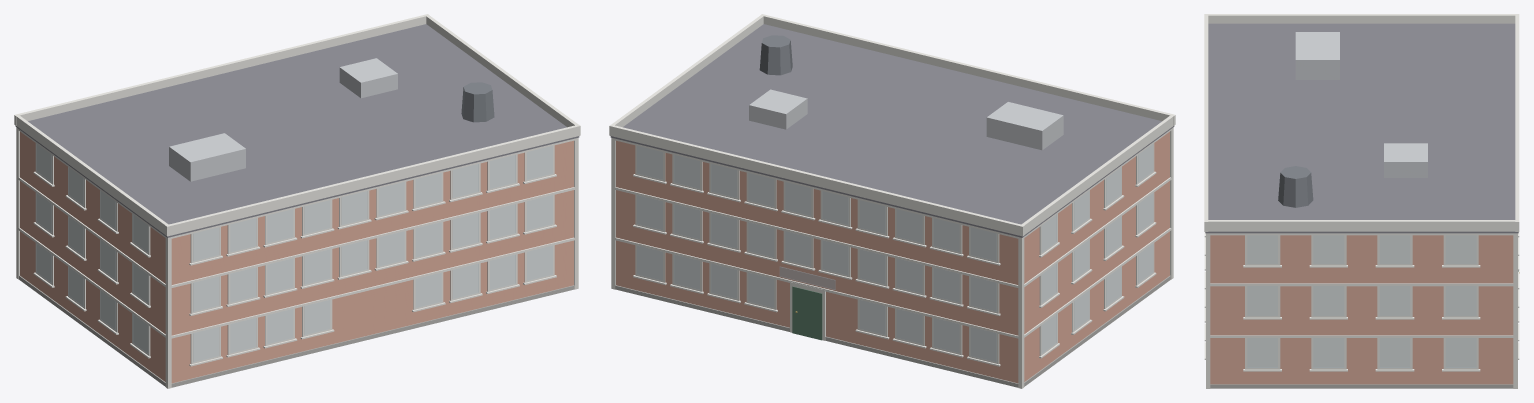
File: office_b.glb
3 views of the same model, side by side, from view 1: azimuth 30°, elevation 25°; view 2: azimuth 150°, elevation 25°; view 3: azimuth 270°, elevation 25° (orthographic). The views are drawn at different scales.
Parts seen in each view (by area): view 1: body, roof; view 2: body, roof; view 3: roof, body.
Part boxes in pixels (x1,y1,x2,y2): body: [16, 127, 578, 388]; roof: [14, 14, 580, 237]; body: [611, 127, 1173, 388]; roof: [609, 14, 1175, 237]; roof: [1204, 14, 1519, 233]; body: [1204, 232, 1519, 388].
Size of the model in its own units: 22.3 by 9.4 by 14.28.
